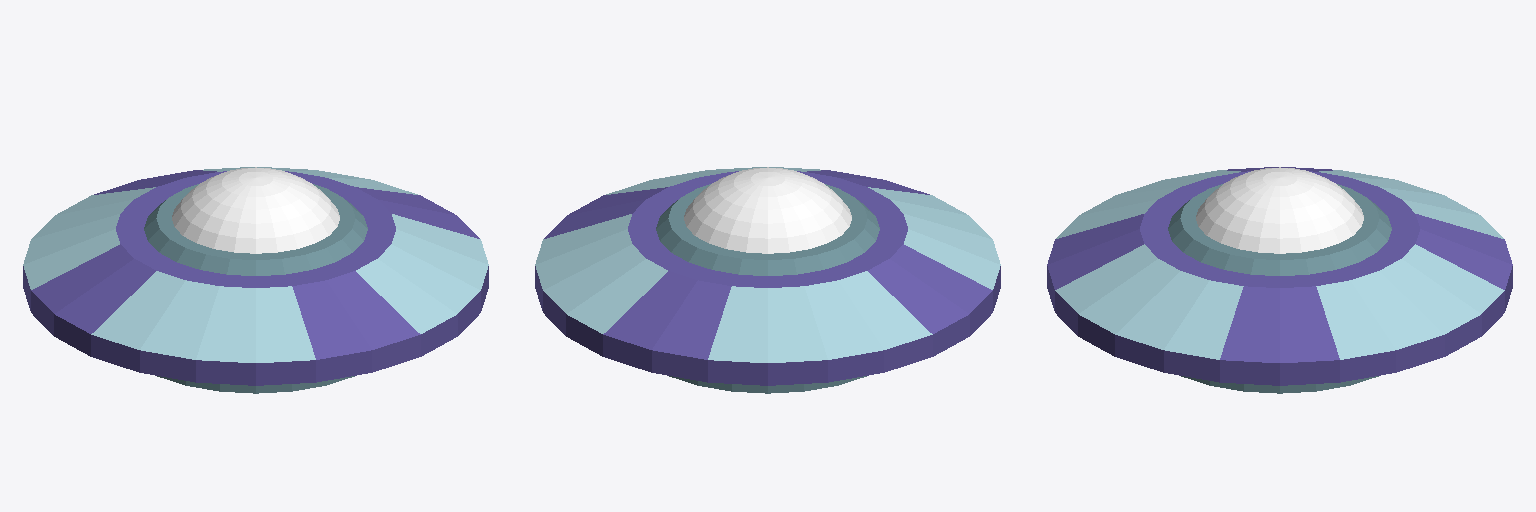
The model's file is EnemyPurple.obj.
3 renders of one model, left to right at view 1: azimuth 30°, elevation 25°; view 2: azimuth 150°, elevation 25°; view 3: azimuth 270°, elevation 25°, orthographic.
Visible parts, largest first — view 1: enemy_ufoPurple; view 2: enemy_ufoPurple; view 3: enemy_ufoPurple.
Part boxes in pixels (x1,y1,x2,y2): enemy_ufoPurple: (23, 167, 488, 393); enemy_ufoPurple: (535, 167, 1000, 393); enemy_ufoPurple: (1047, 167, 1512, 393).
Bounding box in the file's own units: 1 × 0.3712 × 1.